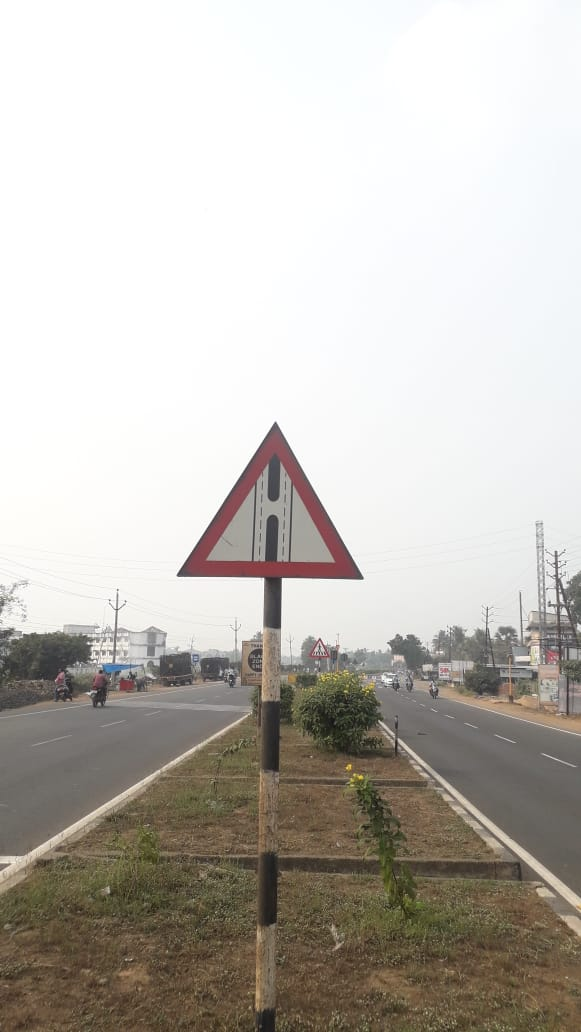highway go straight: (172, 421, 369, 597)
